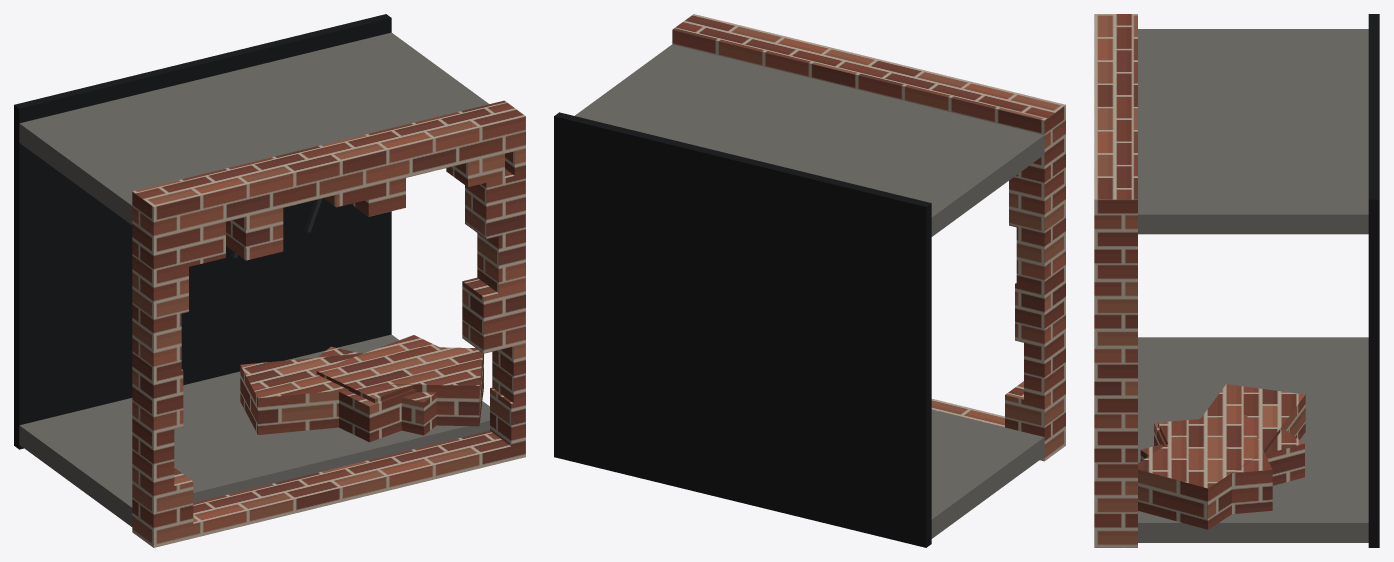
Rendered from ct_hole.glb.
3 views of the same model, side by side, from view 1: azimuth 30°, elevation 25°; view 2: azimuth 150°, elevation 25°; view 3: azimuth 270°, elevation 25° (orthographic). The views are drawn at different scales.
Visible parts, largest first — view 1: city_ct_hole; view 2: city_ct_hole; view 3: city_ct_hole.
Part boxes in pixels (<box>): city_ct_hole: <box>14,14,525,547</box>; city_ct_hole: <box>554,14,1065,547</box>; city_ct_hole: <box>1094,14,1379,547</box>.
Size of the model in its own units: 4.15 by 3.5 by 2.6.
Materials: 3 (3 with a texture image).
